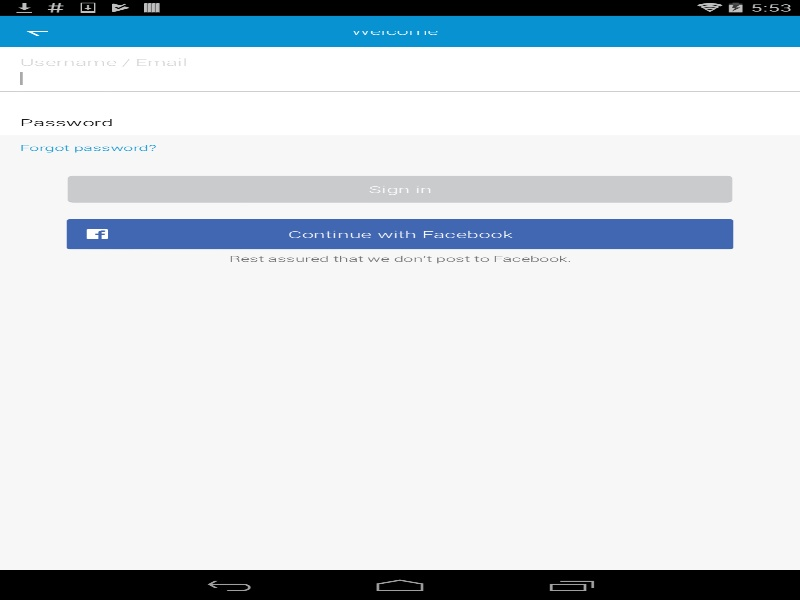Button: (66, 219, 733, 249), (66, 175, 733, 203), (0, 15, 74, 46)
Input: (20, 65, 780, 91), (20, 109, 780, 135)
